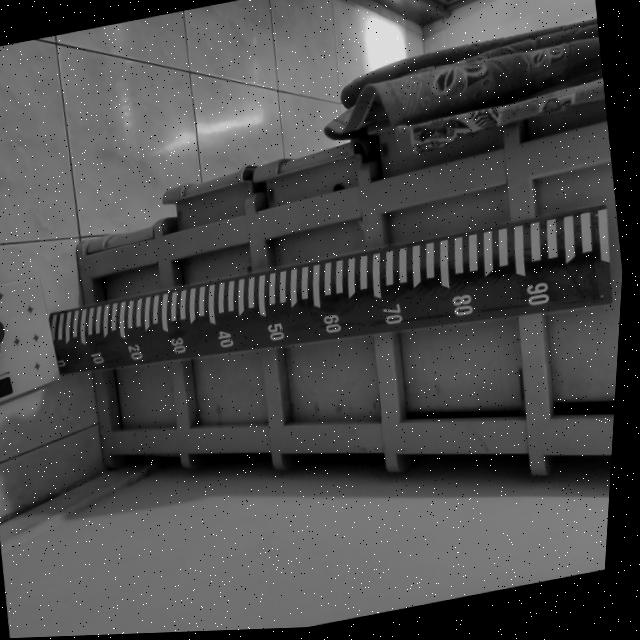water-meter: (26, 196, 627, 424)
